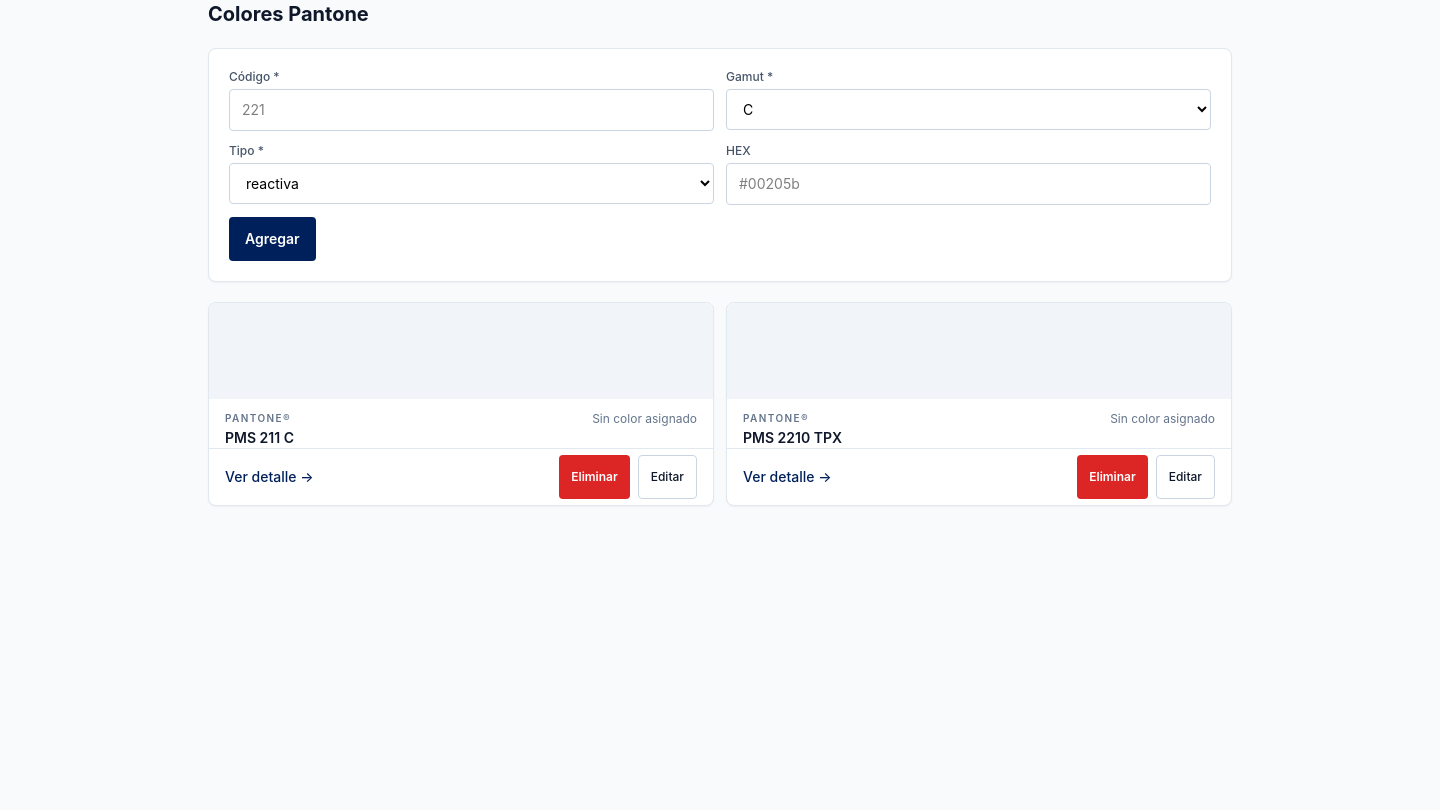
Scenario: PantonePage (Slice F: card catalog + gamut selector) › does NOT delete until the operator confirms in the dialog
The width and height of the screenshot is (1440, 810).
Click the 1st button "Eliminar". click: click(594, 477)
box: [559,455,630,499]
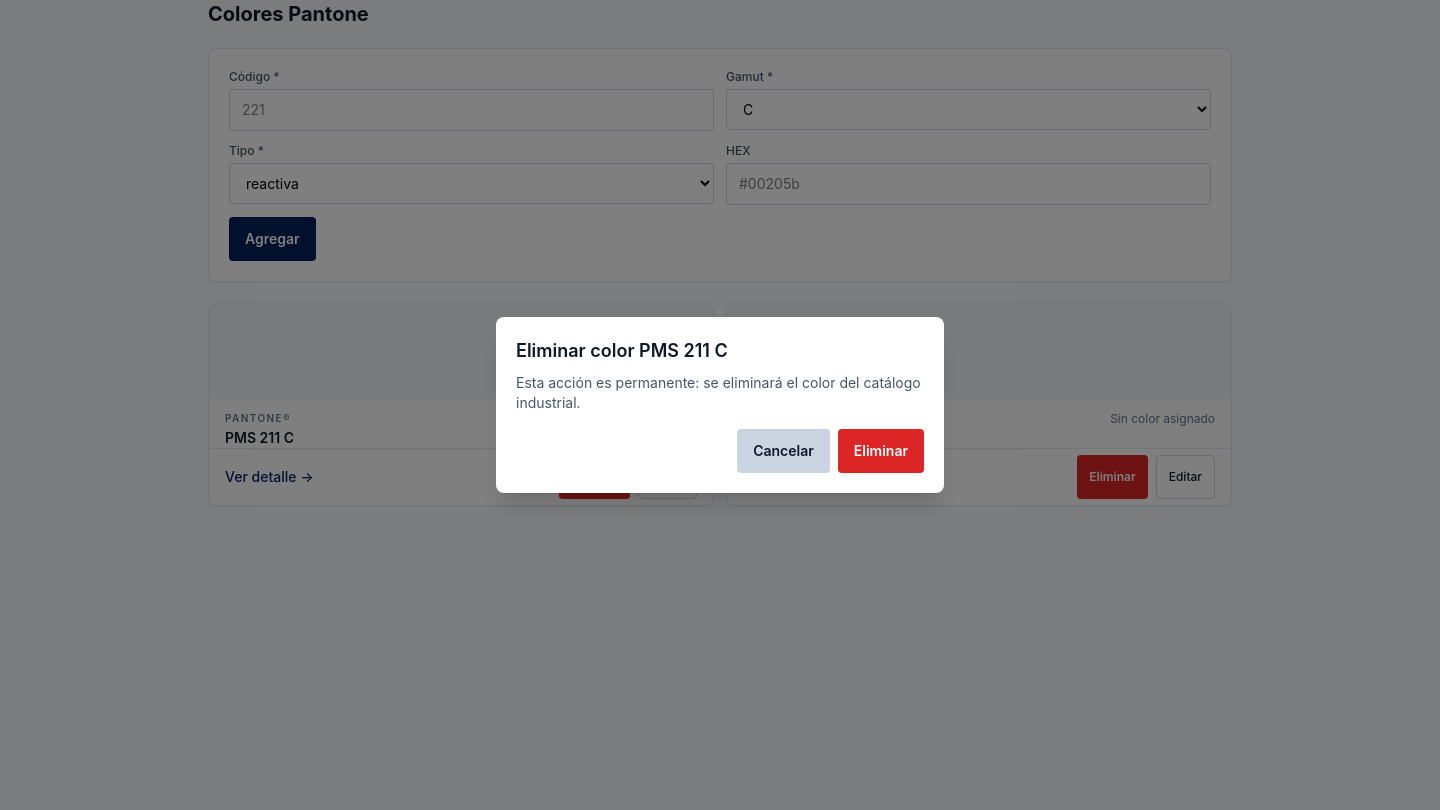
Expected: the dialog is shown
